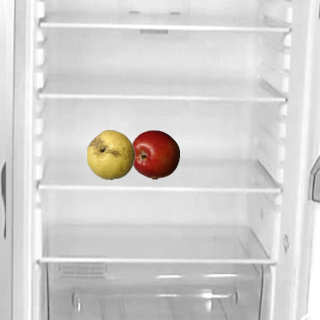Apple Braeburn: (129, 129, 179, 179)
Apple Golden 1: (85, 129, 135, 179)
